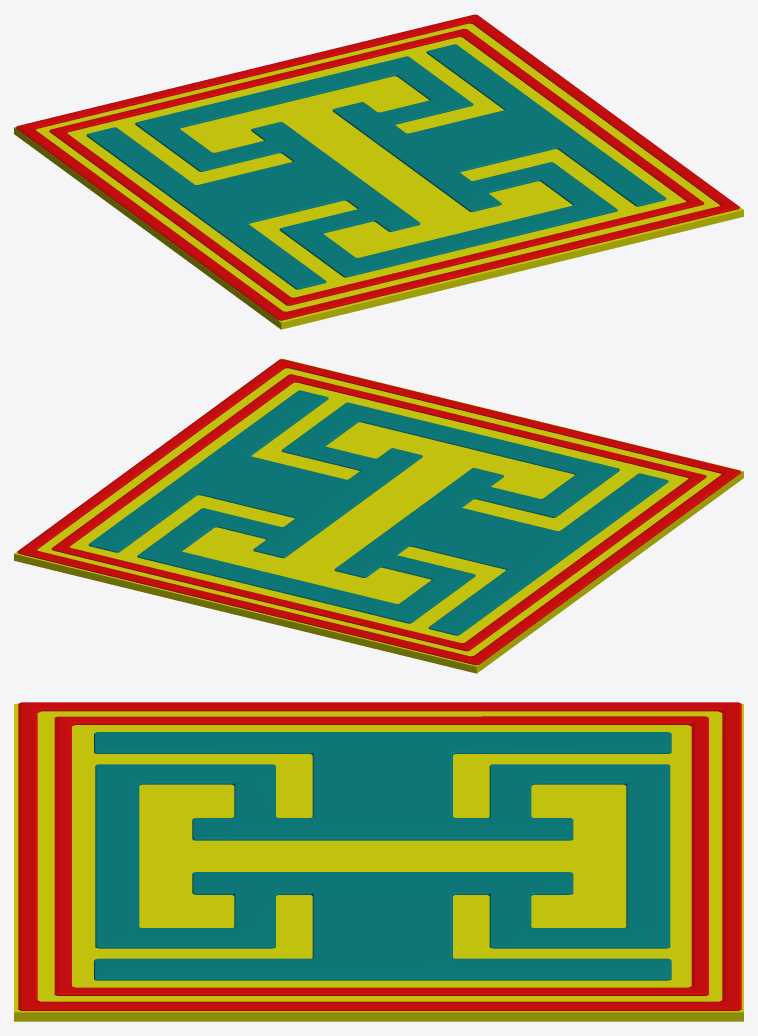
The model's file is P_Floor_1.fbx.
3 renders of one model, top to bottom at view 1: azimuth 30°, elevation 25°; view 2: azimuth 150°, elevation 25°; view 3: azimuth 270°, elevation 25°, orthographic. The views are drawn at different scales.
Visible parts, largest first — view 1: P_Floor_1; view 2: P_Floor_1; view 3: P_Floor_1.
Boxes of the visible parts, x1=… form: P_Floor_1: x1=14, y1=14, x2=743, y2=329; P_Floor_1: x1=14, y1=358, x2=743, y2=673; P_Floor_1: x1=14, y1=702, x2=743, y2=1021.
Size of the model in its own units: 700 by 12.76 by 700.
